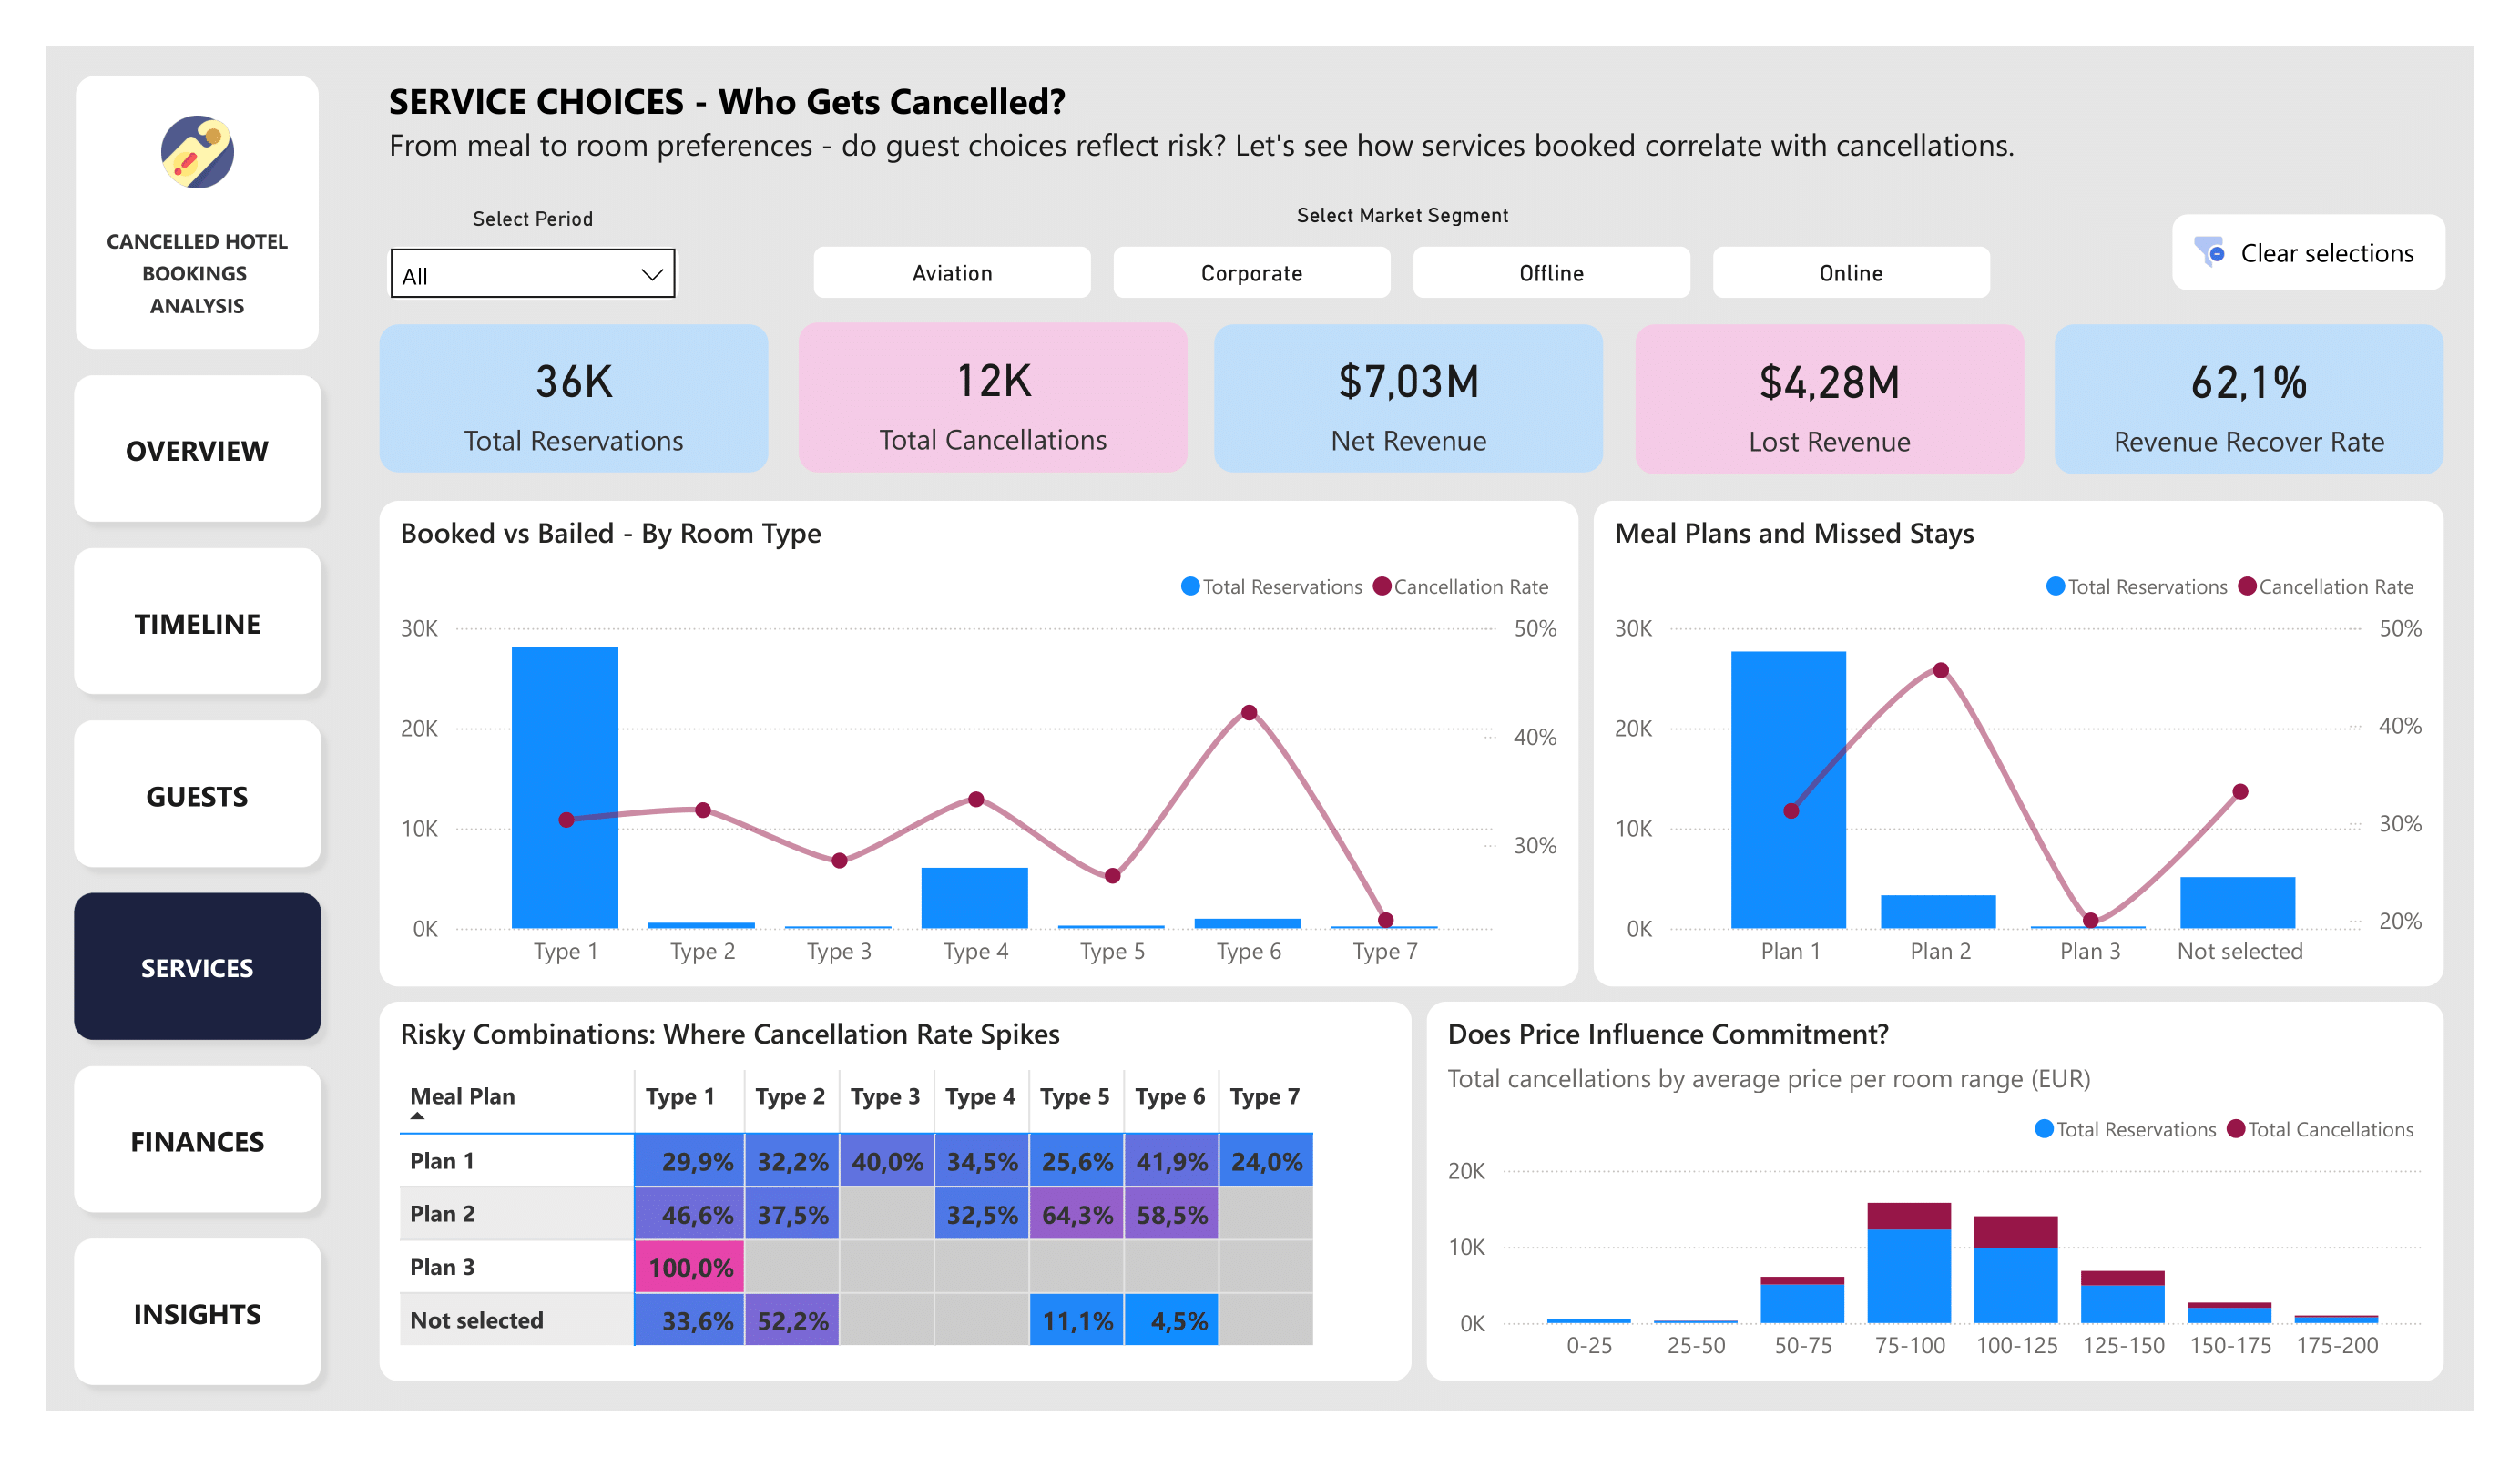

Layout of this report page (visuals, bound fields, positions):
{"tool":"powerbi","page":{"name":"SERVICES","canvas":[1280,720],"ordinal":3},"visuals":[{"type":"textbox","box":[16,16,128,144],"z":0},{"type":"advancedSlicerVisual","title":"Select Market Segment","fields":{"Values":["Reservations.Market segment"]},"box":[399.9,73,631,64],"z":0,"group":"g1"},{"type":"shape","box":[180,106,154,28],"z":0,"group":"g4"},{"type":"card","fields":{"Values":["_Measures.Total reservations"]},"box":[176,147,205,78.2],"z":0,"group":"g3"},{"type":"slicer","title":" Select Period","fields":{"Values":["Calendar.Date.Variation.Date Hierarchy.Year","Calendar.Date.Variation.Date Hierarchy.Quarter","Calendar.Date.Variation.Date Hierarchy.Month"]},"box":[177,85,160,48],"z":1000,"group":"g4"},{"type":"card","fields":{"Values":["_Measures.Total canceled reservations"]},"box":[396.6,146,205,78.9],"z":1000,"group":"g3"},{"type":"pageNavigator","box":[8.2,167.2,144.3,549.2],"z":1000},{"type":"textbox","box":[176,6,1096,72],"z":2000},{"type":"group","id":"g1","title":"Group 3","box":[399.9,73,864.1,64],"z":2000,"group":"g5"},{"type":"group","id":"g2","title":"Group 2","box":[1119.5,89,144.5,40],"z":2000,"group":"g1"},{"type":"card","fields":{"Values":["_Measures.Total revenue"]},"box":[615.7,146.6,205,78.3],"z":2000,"group":"g3"},{"type":"image","box":[48,32,64,48],"z":3000},{"type":"card","fields":{"Values":["_Measures.Lost revenue"]},"box":[838.2,147.1,205,78.9],"z":3000,"group":"g3"},{"type":"group","id":"g3","title":"Group 1","box":[176,146,1088,80],"z":4000},{"type":"card","fields":{"Values":["_Measures.Revenue recover rate"]},"box":[1059,147.1,205,78.9],"z":4000,"group":"g3"},{"type":"lineStackedColumnComboChart","title":"Meal Plans and Missed Stays","fields":{"Y2":["_Measures.Cancellation Rate"],"Y":["_Measures.Total Reservations"],"Category":["Reservations.Meal Plan Type"]},"box":[816,240,448,256],"z":5000},{"type":"actionButton","box":[1120.1,89,143.9,40],"z":6000,"group":"g2"},{"type":"lineClusteredColumnComboChart","title":"Booked vs Bailed - By Room Type","fields":{"Category":["Reservations.Room Type"],"Y":["_Measures.Total Reservations"],"Y2":["_Measures.Cancellation Rate"]},"box":[176,240,632,256],"z":6000},{"type":"pivotTable","title":"Risky Combinations: Where Cancellation Rate Spikes","fields":{"Columns":["Reservations.Room Type"],"Rows":["Reservations.Meal Plan Type"],"Values":["_Measures.Cancellation Rate"]},"box":[176,504,544,200],"z":7000},{"type":"columnChart","title":"Does Price Influence Commitment?","fields":{"Category":["Reservations.AVG Price per Room Range"],"Y":["_Measures.Total Reservations","_Measures.Total Cancellations"]},"box":[728,504,536,200],"z":8000},{"type":"group","id":"g4","title":"Group 4","box":[177,85,160,49],"z":8001,"group":"g5"},{"type":"group","id":"g5","title":"Group 6","box":[177,73,1087,64],"z":9000},{"type":"image","box":[1119.5,93,40,32],"z":11000,"group":"g2"}]}

Visuals, with their boxes on the page's 1280x720 design canvas (x1, y1, x2, y2). These are canvas units, not pixel positions in the 2520x1457 screenshot, which may show the page scaled, cropped or inside an application window:
textbox: l=16, t=16, r=144, b=160
"Select Market Segment" advancedSlicerVisual: l=400, t=73, r=1031, b=137
shape: l=180, t=106, r=334, b=134
card - _Measures.Total reservations: l=176, t=147, r=381, b=225
" Select Period" slicer: l=177, t=85, r=337, b=133
card - _Measures.Total canceled reservations: l=397, t=146, r=602, b=225
pageNavigator: l=8, t=167, r=152, b=716
textbox: l=176, t=6, r=1272, b=78
"Group 3" group: l=400, t=73, r=1264, b=137
"Group 2" group: l=1120, t=89, r=1264, b=129
card - _Measures.Total revenue: l=616, t=147, r=821, b=225
image: l=48, t=32, r=112, b=80
card - _Measures.Lost revenue: l=838, t=147, r=1043, b=226
"Group 1" group: l=176, t=146, r=1264, b=226
card - _Measures.Revenue recover rate: l=1059, t=147, r=1264, b=226
"Meal Plans and Missed Stays" lineStackedColumnComboChart: l=816, t=240, r=1264, b=496
actionButton: l=1120, t=89, r=1264, b=129
"Booked vs Bailed - By Room Type" lineClusteredColumnComboChart: l=176, t=240, r=808, b=496
"Risky Combinations: Where Cancellation Rate Spikes" pivotTable: l=176, t=504, r=720, b=704
"Does Price Influence Commitment?" columnChart: l=728, t=504, r=1264, b=704
"Group 4" group: l=177, t=85, r=337, b=134
"Group 6" group: l=177, t=73, r=1264, b=137
image: l=1120, t=93, r=1160, b=125
